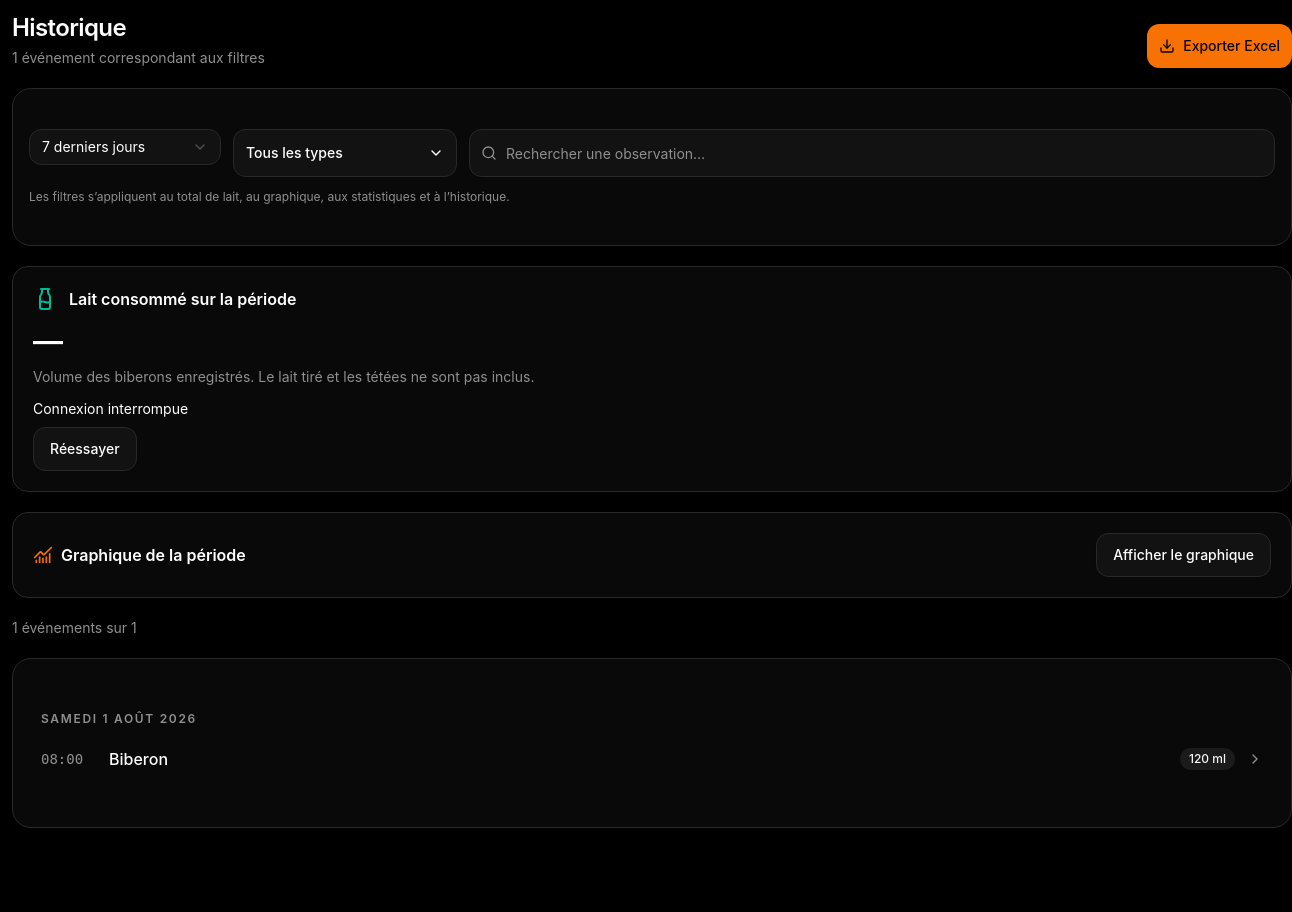
Test: HistoryPage › ne présente pas zéro ml si le chargement complet échoue et permet de réessayer
Expected: the message "Connexion interrompue Réessayer" is shown, [33,400,188,471]
Click the button "Réessayer": click(85, 449) [33,427,137,471]
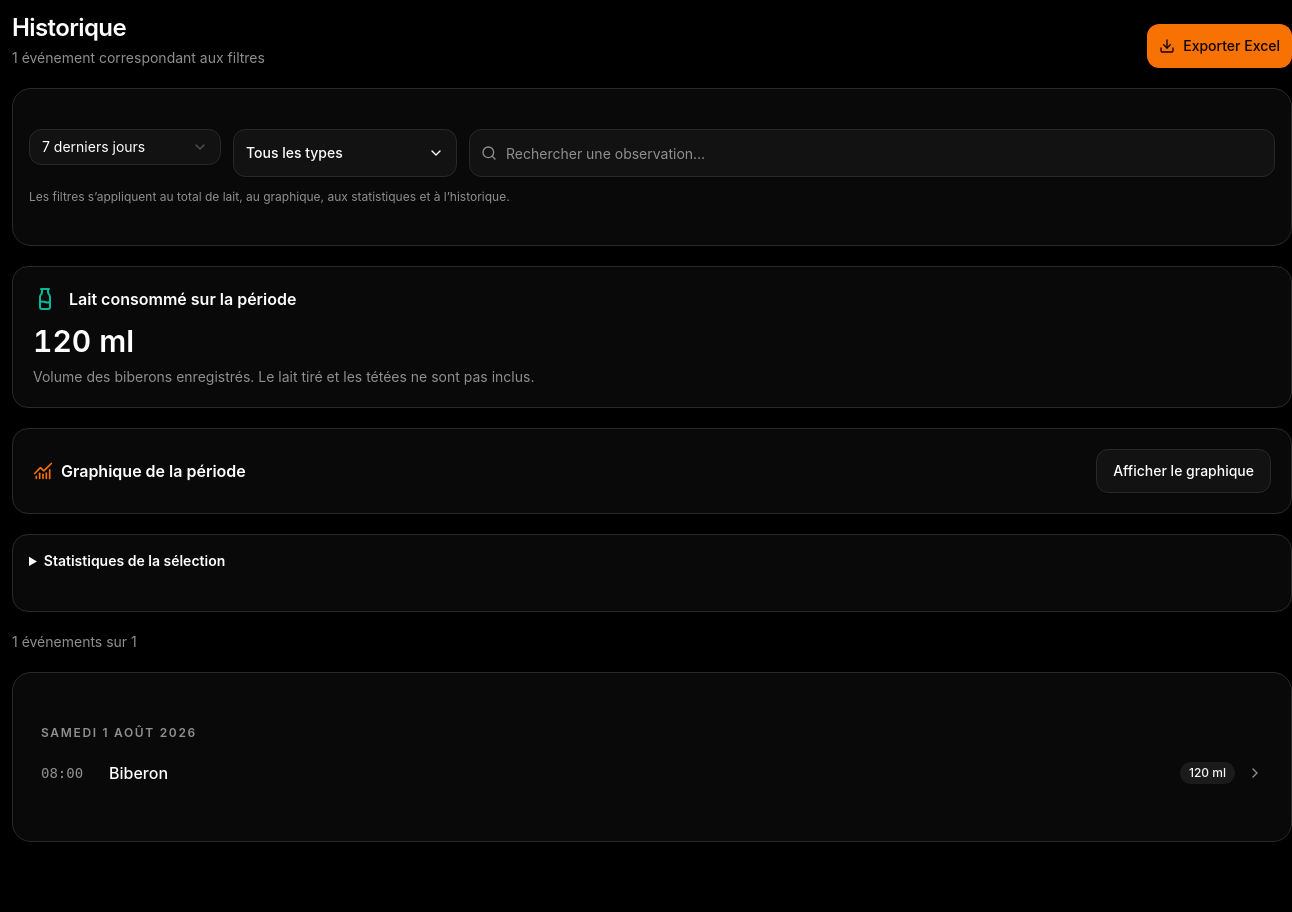
Expected: the text "120 ml" below "Lait consommé sur la période" is shown, [33,323,134,359]
